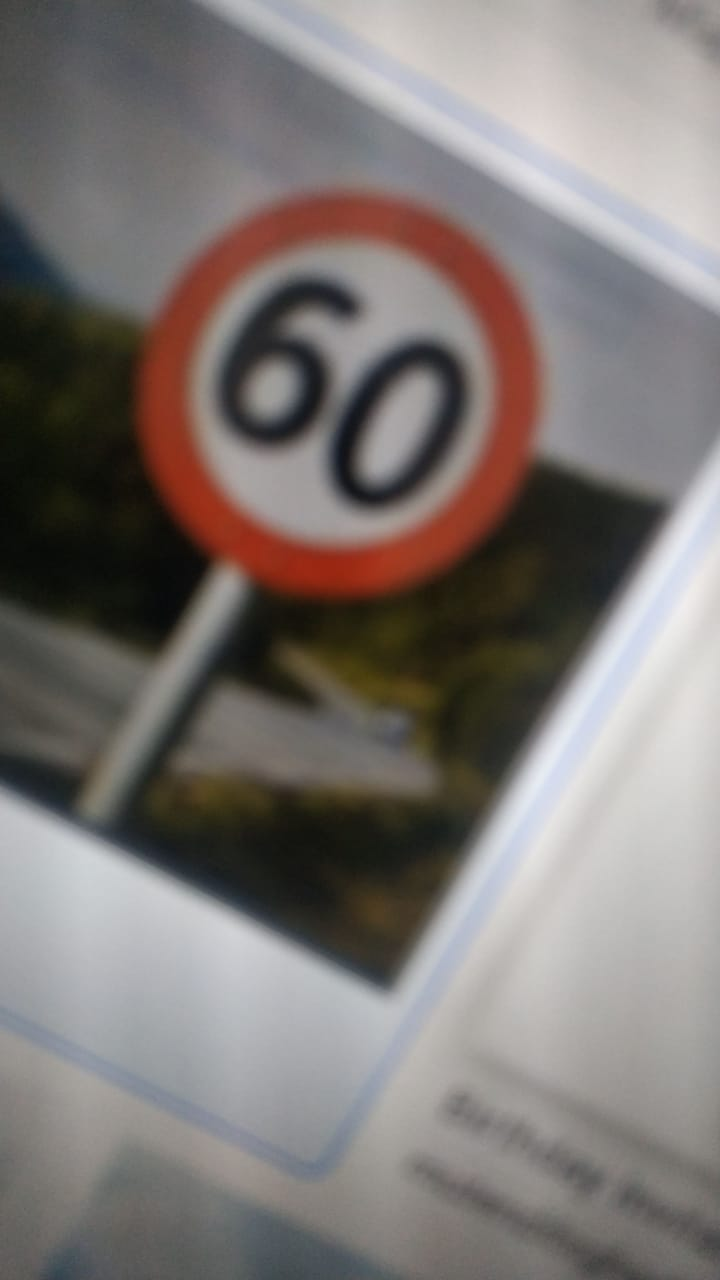SPEED LIMIT (60 KM/H): (122, 164, 559, 610)
